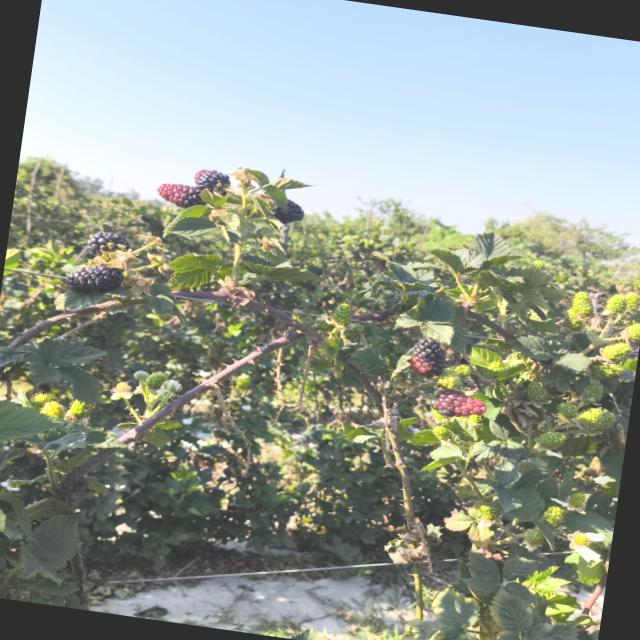maduro: (66, 264, 123, 294), (88, 232, 130, 255)
marron: (433, 390, 487, 417), (410, 338, 446, 378), (158, 184, 203, 208), (195, 170, 230, 190)
verde: (577, 408, 615, 431), (600, 343, 632, 363), (571, 292, 594, 318), (543, 506, 566, 528), (537, 432, 566, 449), (580, 383, 603, 403), (528, 382, 551, 402), (606, 295, 627, 314), (557, 402, 578, 419), (624, 292, 640, 312), (624, 323, 640, 341)
